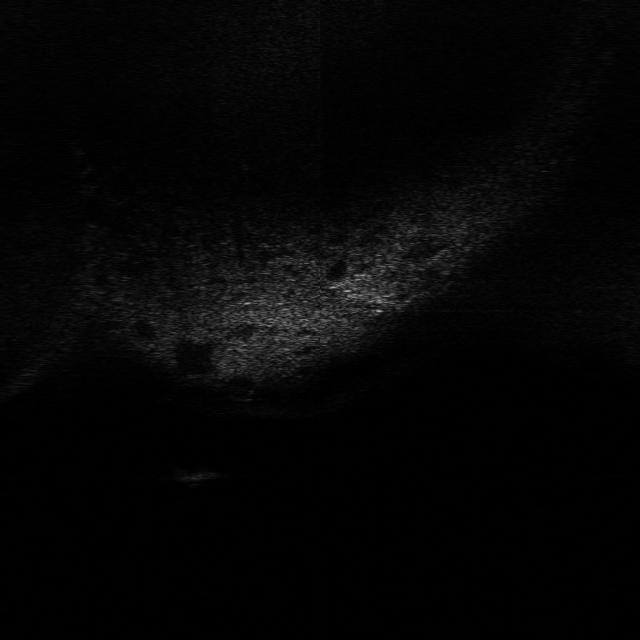cube: (163, 464, 218, 486)
